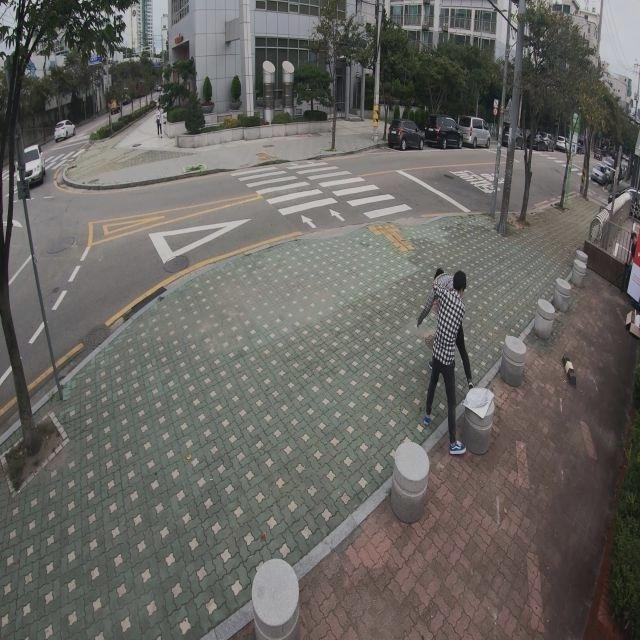non-fight: (415, 267, 472, 457)
